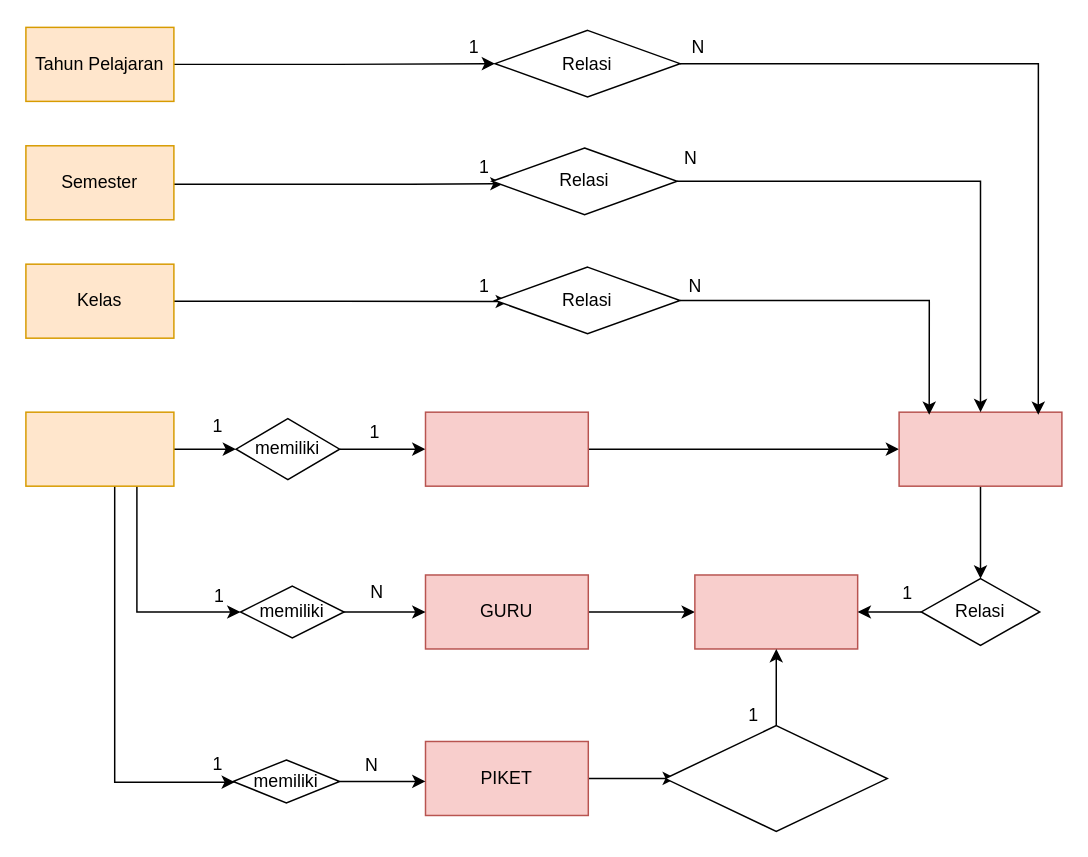
This 1088x857 diagram has some shape labels left out. Each missing label, with the centre of its shape:
"Jadwal" belongs at (980,448).
"Mendokumentasikan" belongs at (775,777).
"Presensi" belongs at (775,611).
"USER" belongs at (99,448).
"WAKA" belongs at (506,448).
